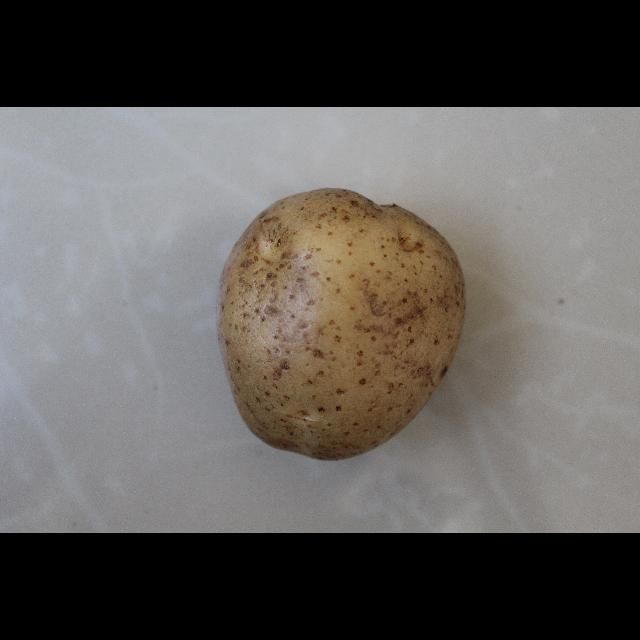Diseased-fungal potato: (210, 185, 472, 470)
